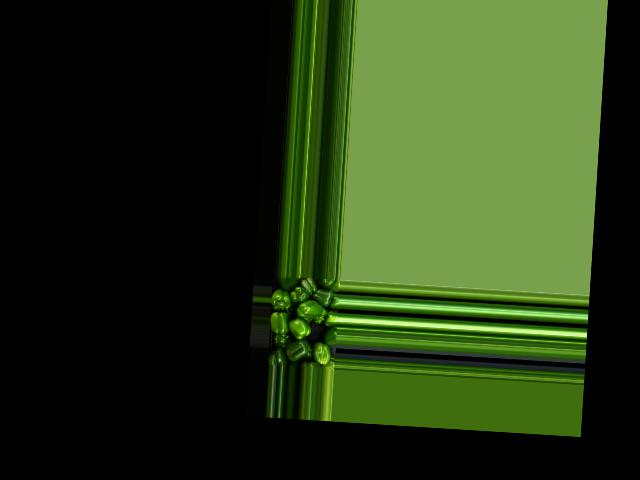bell_pepper: (281, 275, 301, 291)
